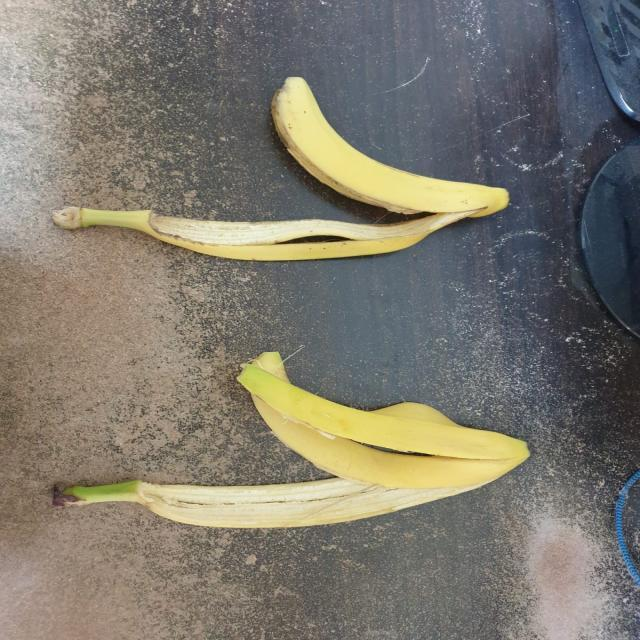banana-peel: (46, 343, 538, 533), (46, 70, 514, 264)
